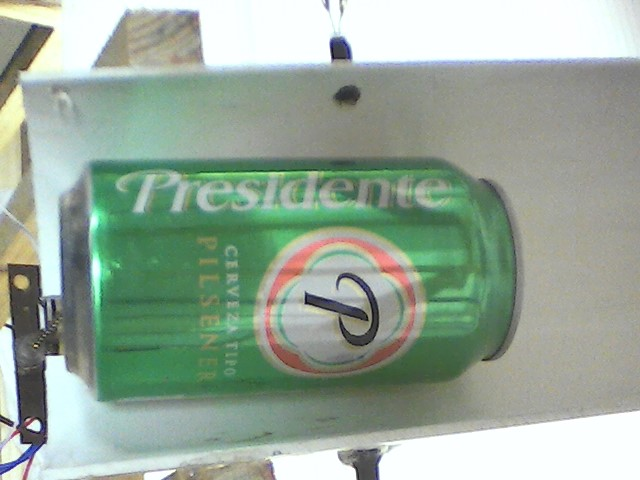lata: (56, 151, 532, 405)
